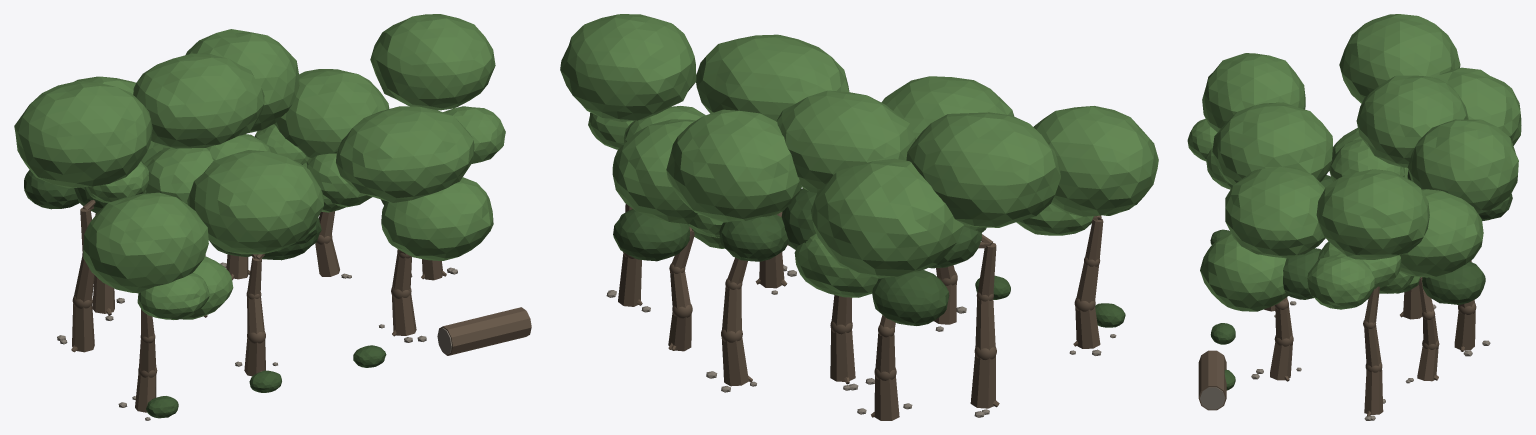
The model's file is old_forest_lvl2.glb.
3 views of the same model, side by side, from view 1: azimuth 30°, elevation 25°; view 2: azimuth 150°, elevation 25°; view 3: azimuth 270°, elevation 25° (orthographic). The views are drawn at different scales.
Parts seen in each view (by area): view 1: old_forest; view 2: old_forest; view 3: old_forest.
Part boxes in pixels (left/top/right/bottom): old_forest: left=14, top=14, right=531, bottom=420; old_forest: left=560, top=14, right=1158, bottom=420; old_forest: left=1187, top=14, right=1521, bottom=420.
Bounding box in the file's own units: 0.9173 × 0.4951 × 0.6218.
